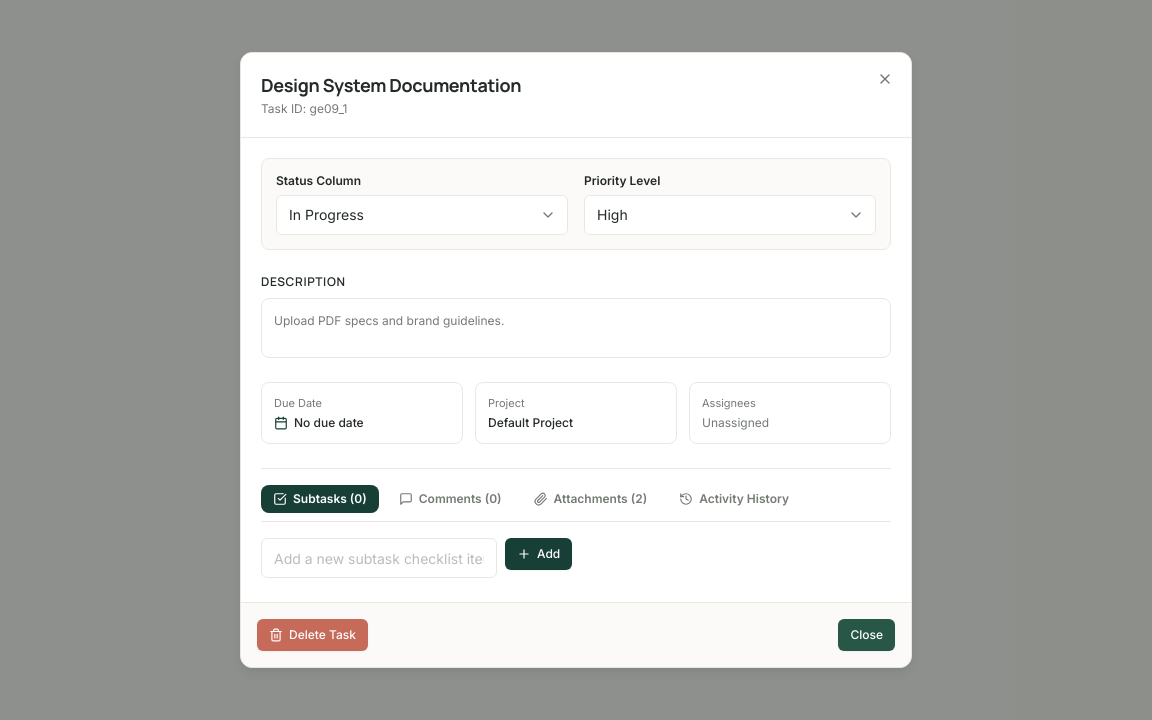
Test case: Stage 09: File Uploads, Task Attachments, and Assets › provides delete button for attachments inside TaskDetailsModal
Click the button "Attachments (2)". click: (590, 499)
box: [522,485,659,513]
(page scrolled)
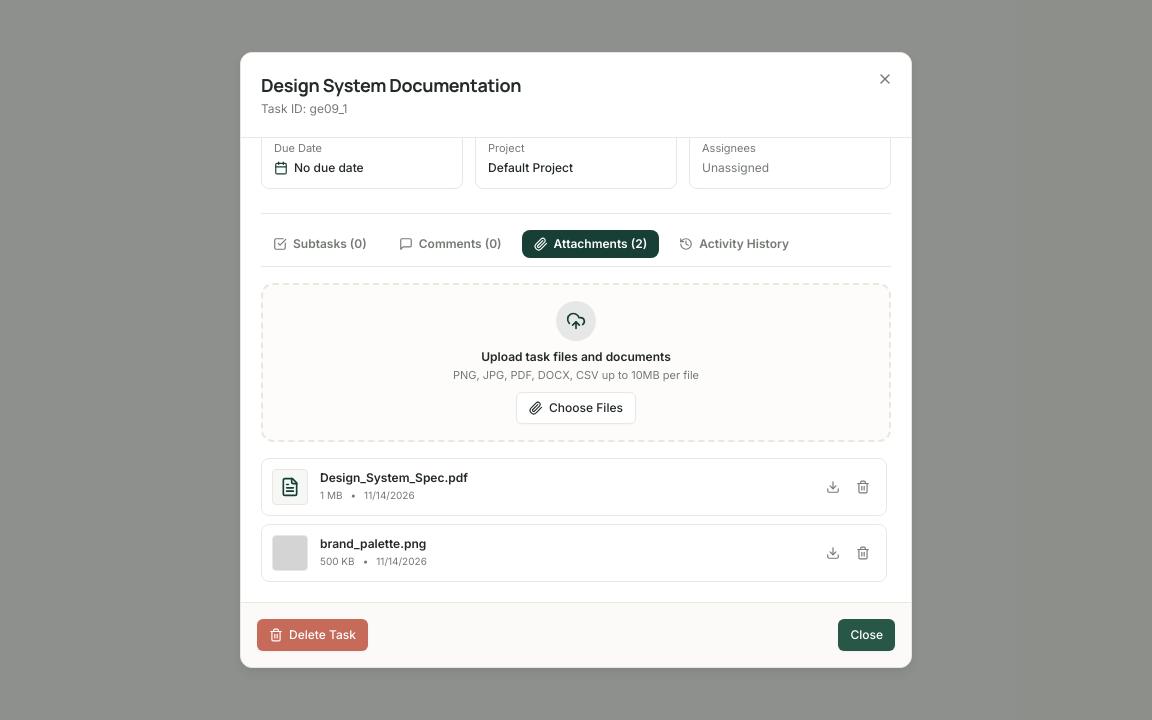
Result: the button with test id "delete-attachment-att_1" is shown at [850,474,876,500]
